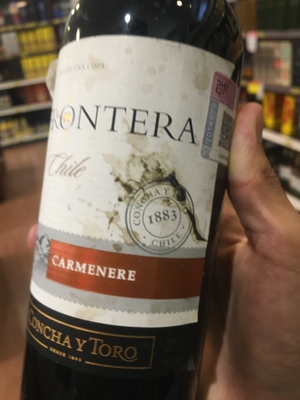frontera carmenere: (32, 5, 248, 400)
